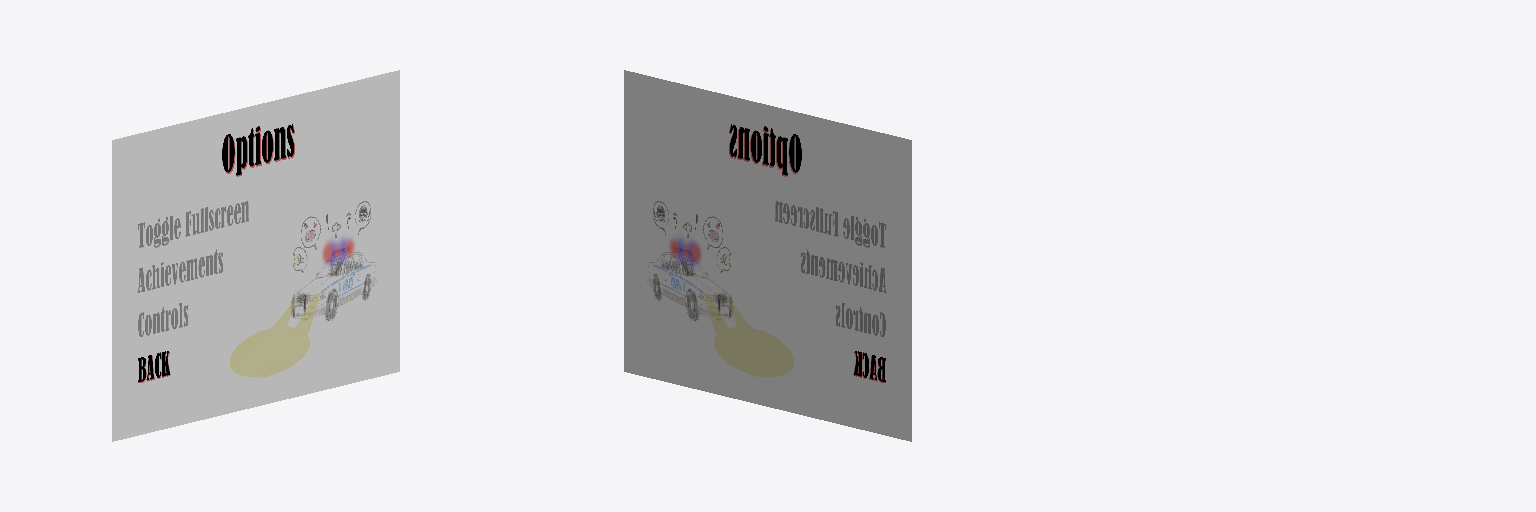
3 views of the same model, side by side, from view 1: azimuth 30°, elevation 25°; view 2: azimuth 150°, elevation 25°; view 3: azimuth 270°, elevation 25° (orthographic).
Visible parts, largest first — view 1: Plane; view 2: Plane; view 3: none.
Boxes of the visible parts, <box> form: Plane: <box>112,70,399,441</box>; Plane: <box>624,70,911,441</box>.
Bounding box in the file's own units: 2 × 2 × 0.
Materials: 1 (1 with a texture image).